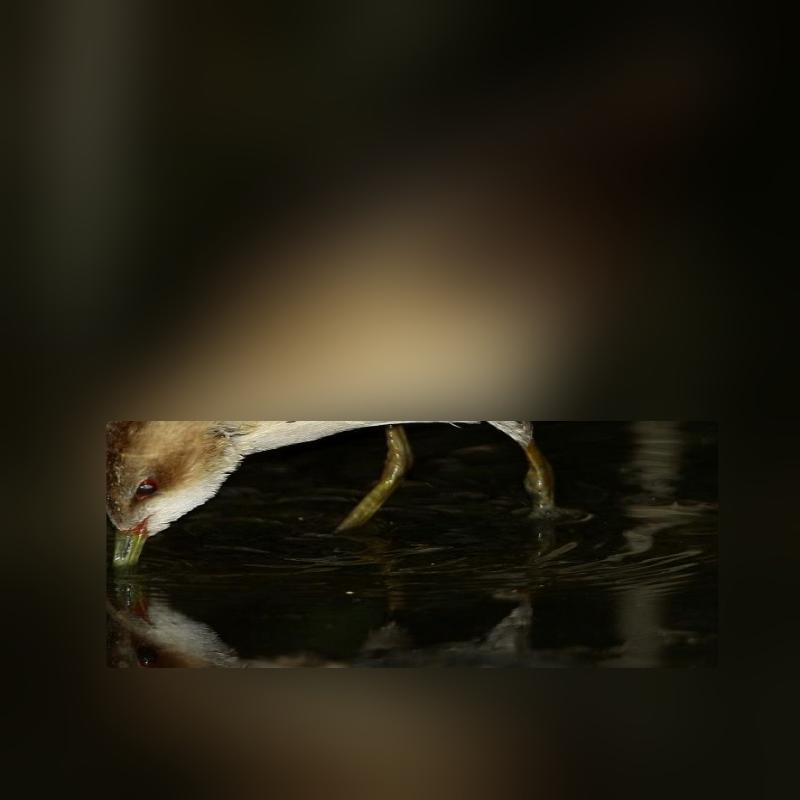little crake: (105, 200, 623, 570)
